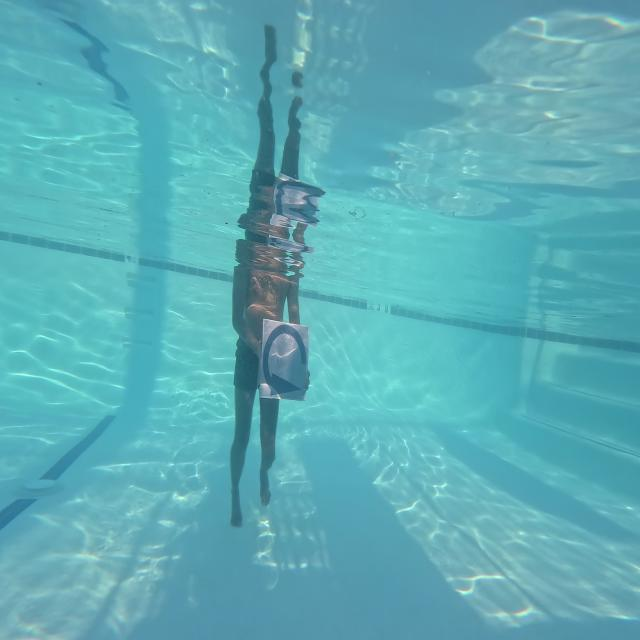blue_side: (258, 316, 310, 404)
